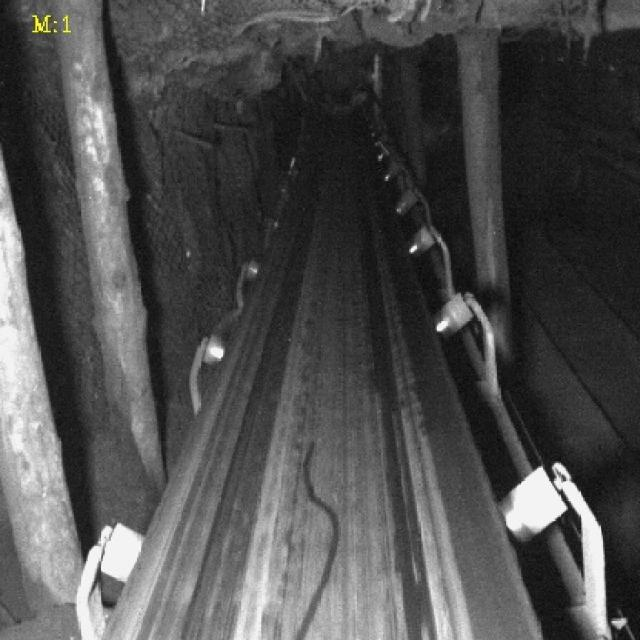bolt: (283, 438, 342, 638)
